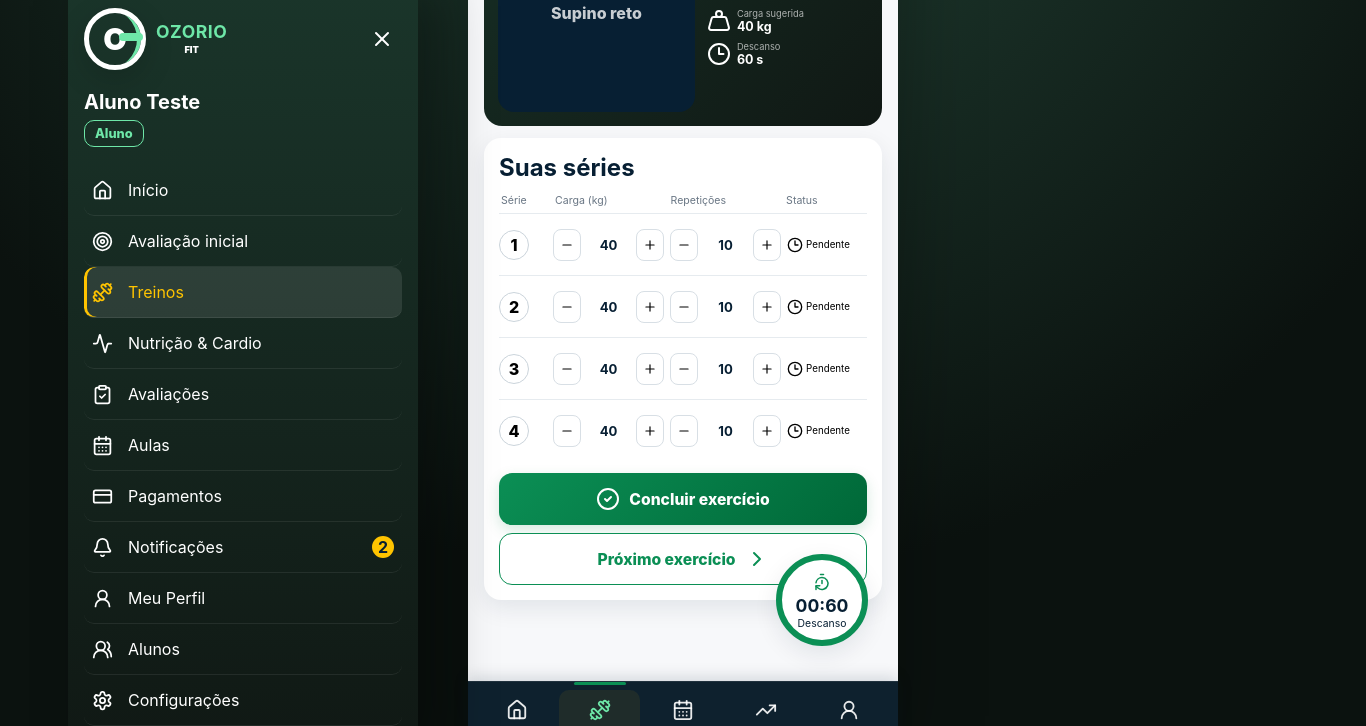
it: Primary interactions › moves to the next prescribed exercise
(page scrolled)
Click the button "Próximo exercício" at (683, 559), box x1=499 y1=533 x2=867 y2=585
(page scrolled)
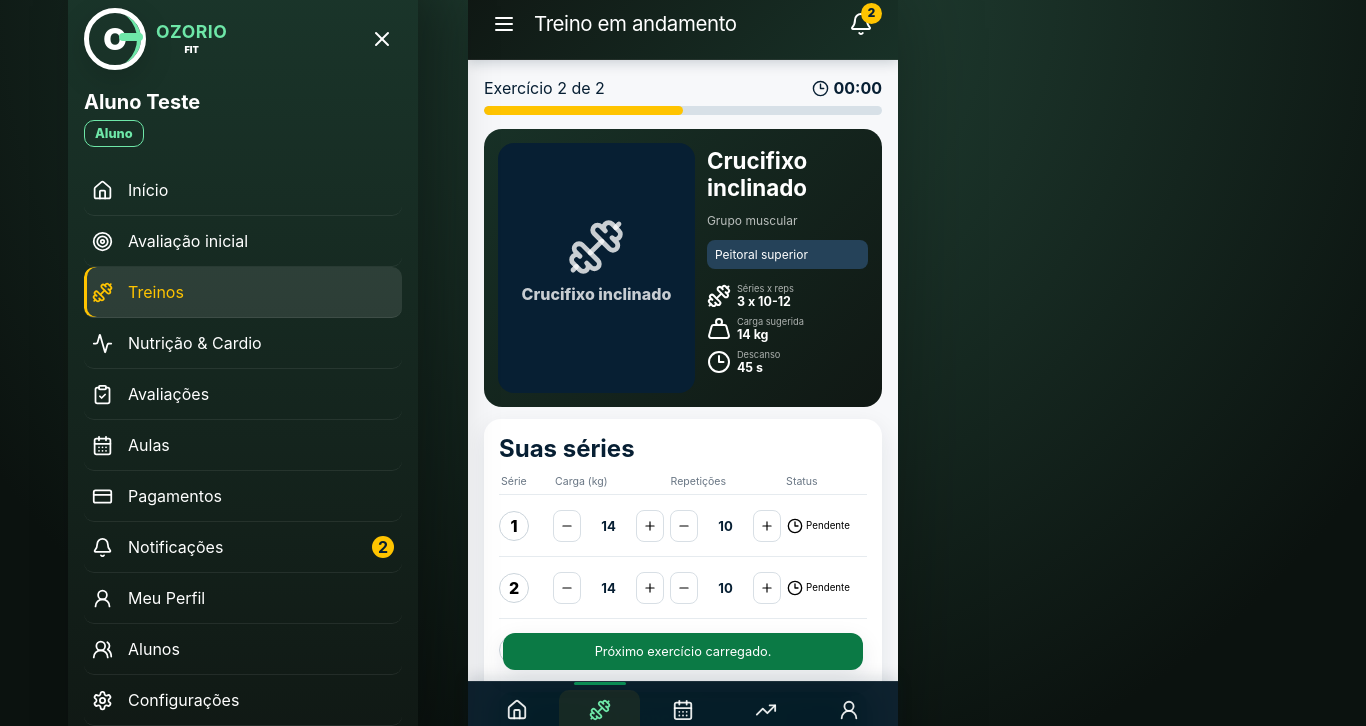
Expected: the heading "Crucifixo inclinado" is shown, x1=707 y1=147 x2=807 y2=201
